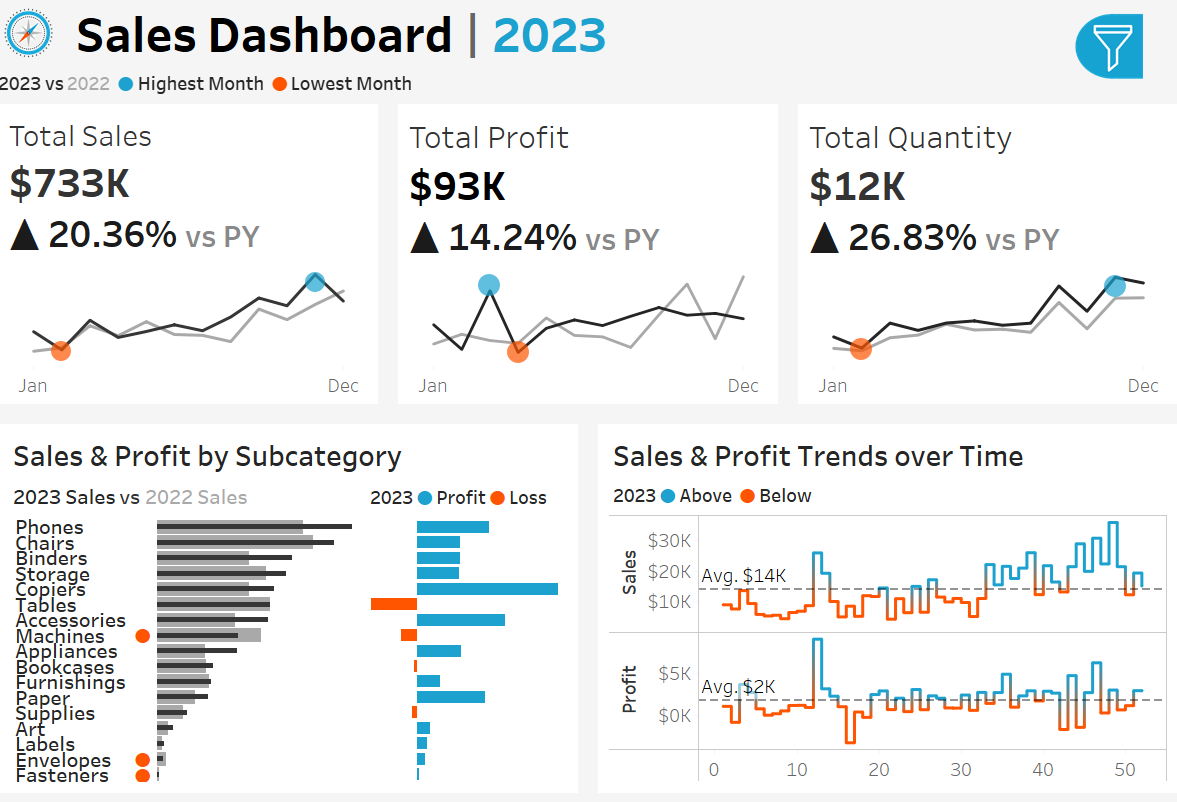

Layout of this report page (visuals, bound fields, positions):
{"tool":"tableau","page":{"name":"Sales Dashboard","canvas":[1200,800],"ordinal":1},"visuals":[{"type":"image","param":"C:/Users/grees/OneDrive/Desktop/Greeshma/JOB!!!/Sales-Dashboard-Materials_Tablea","box":[0,0,80,59]},{"type":"text","box":[80,0,791,59]},{"type":"text","box":[934,10,256,161]},{"type":"dashboard-object","box":[905,16,94,59]},{"type":"dashboard-object","box":[999,16,93,59]},{"type":"dashboard-object","box":[1092,16,93,59]},{"type":"worksheet","title":"Legend KPI","mark":"Automatic","box":[0,59,1200,42]},{"type":"worksheet","title":"KPI Sales","mark":"Line","rows":["Calculation_708754038565625860"],"cols":["Order Date"],"box":[0,101,400,310]},{"type":"worksheet","title":"KPI Profit","mark":"Automatic","rows":["Calculation_708754038586847244"],"cols":["Order Date"],"box":[400,101,400,310]},{"type":"worksheet","title":"KPI Quantity","mark":"Automatic","rows":["Calculation_1083115757912666115"],"cols":["Order Date"],"box":[800,101,400,310]},{"type":"parameter","param":"[Parameters].[Parameter 1]","box":[934,171,256,60]},{"type":"text","box":[934,231,256,36]},{"type":"filter","title":"KPI Sales","param":"[federated.1mpkecp1ll978u1an1hjn1a7wf1x].[none:Category:nk]","box":[934,267,256,70]},{"type":"filter","title":"KPI Sales","param":"[federated.1mpkecp1ll978u1an1hjn1a7wf1x].[none:Sub-Category:nk]","box":[934,337,256,70]},{"type":"text","box":[934,407,256,36]},{"type":"text","box":[17,428,566,47]},{"type":"text","box":[617,428,566,47]},{"type":"filter","title":"KPI Sales","param":"[federated.1mpkecp1ll978u1an1hjn1a7wf1x].[none:Region:nk]","box":[934,443,256,70]},{"type":"worksheet","title":"Legend Subcategory","mark":"Automatic","box":[17,475,357,37]},{"type":"text","box":[374,475,209,37]},{"type":"text","box":[617,475,566,33]},{"type":"worksheet","title":"Weekly Trends","mark":"Automatic","rows":["Calculation_708754038557245440","Calculation_708754038583316489"],"cols":["Order Date"],"box":[617,508,566,275]},{"type":"worksheet","title":"Subcategory Comparision","mark":"Bar","rows":["Sub-Category","Calculation_1083115757954457606"],"cols":["CY Sales (copy)_708754038557847553","Calculation_708754038557245440","Calculation_708754038583316489"],"box":[17,512,566,270.9]},{"type":"filter","title":"KPI Sales","param":"[federated.1mpkecp1ll978u1an1hjn1a7wf1x].[none:State:nk]","box":[934,513,256,70]},{"type":"filter","title":"KPI Sales","param":"[federated.1mpkecp1ll978u1an1hjn1a7wf1x].[none:City:nk]","box":[934,583,256,70]}]}

Visuals, with their boxes in screenshot pixels (x1, y1, x2, y2), scaled from the page's 1200x800 canvas onto the 1177x802 screenshot:
image: BBox(0, 0, 78, 59)
text: BBox(78, 0, 854, 59)
text: BBox(916, 10, 1167, 171)
dashboard-object: BBox(888, 16, 980, 75)
dashboard-object: BBox(980, 16, 1071, 75)
dashboard-object: BBox(1071, 16, 1162, 75)
"Legend KPI" worksheet: BBox(0, 59, 1176, 101)
"KPI Sales" worksheet (Line marks): BBox(0, 101, 392, 412)
"KPI Profit" worksheet: BBox(392, 101, 785, 412)
"KPI Quantity" worksheet: BBox(785, 101, 1176, 412)
parameter: BBox(916, 171, 1167, 232)
text: BBox(916, 232, 1167, 268)
"KPI Sales" filter: BBox(916, 268, 1167, 338)
"KPI Sales" filter: BBox(916, 338, 1167, 408)
text: BBox(916, 408, 1167, 444)
text: BBox(17, 429, 572, 476)
text: BBox(605, 429, 1160, 476)
"KPI Sales" filter: BBox(916, 444, 1167, 514)
"Legend Subcategory" worksheet: BBox(17, 476, 367, 513)
text: BBox(367, 476, 572, 513)
text: BBox(605, 476, 1160, 509)
"Weekly Trends" worksheet: BBox(605, 509, 1160, 785)
"Subcategory Comparision" worksheet (Bar marks): BBox(17, 513, 572, 785)
"KPI Sales" filter: BBox(916, 514, 1167, 584)
"KPI Sales" filter: BBox(916, 584, 1167, 655)
